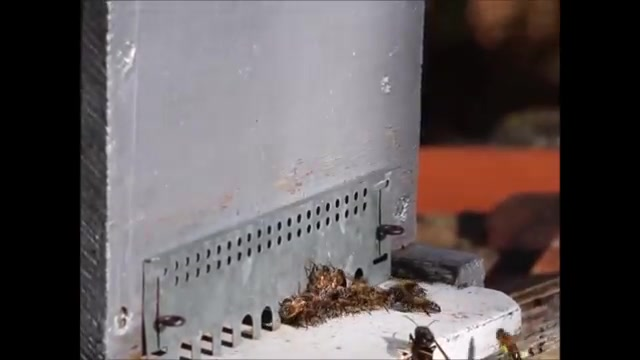bee: (497, 327, 524, 360), (279, 299, 313, 320), (410, 296, 448, 314), (313, 263, 340, 285), (327, 287, 361, 303)
hornet: (402, 317, 441, 360)
